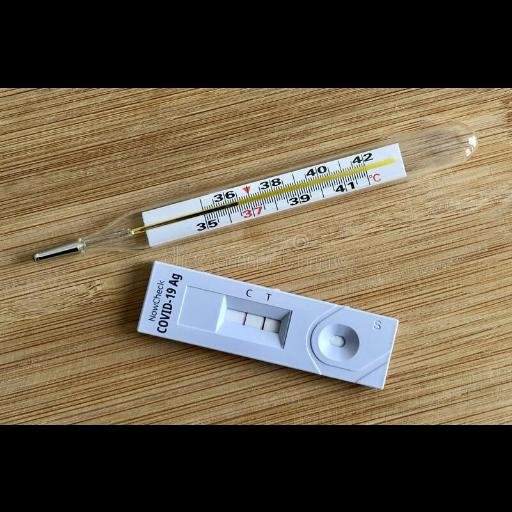Pos: (137, 260, 400, 390)
